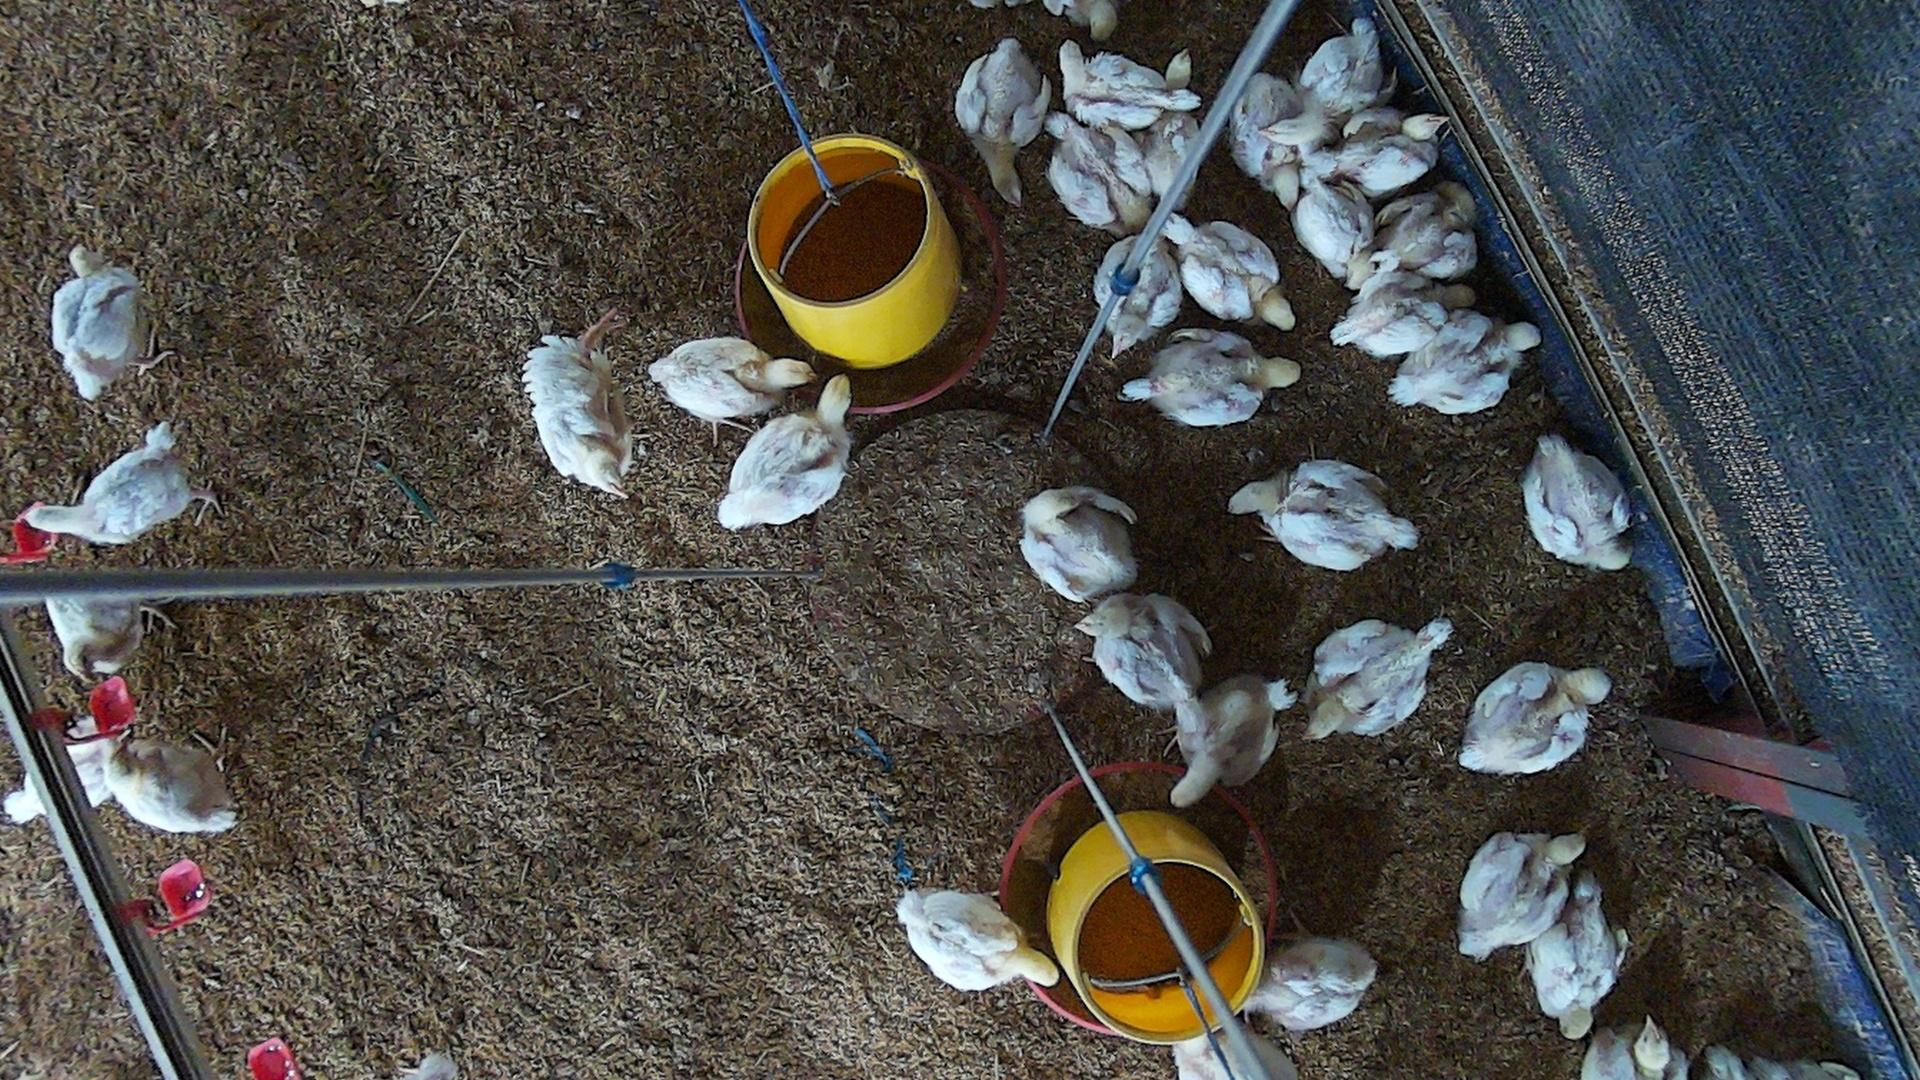ayam_broiler: (1230, 458, 1419, 568), (716, 375, 853, 526), (28, 425, 196, 542), (521, 335, 637, 493), (1120, 327, 1299, 426), (1077, 593, 1212, 725), (1259, 17, 1395, 146), (1307, 618, 1452, 738), (1456, 661, 1609, 773), (1171, 674, 1295, 806), (898, 889, 1059, 990), (1156, 211, 1295, 328), (1457, 832, 1586, 957), (955, 37, 1048, 206), (100, 728, 243, 833), (1390, 313, 1539, 413), (1526, 885, 1623, 1038), (1523, 434, 1631, 568), (53, 247, 146, 398), (647, 336, 811, 422), (1021, 488, 1138, 601), (1332, 270, 1480, 356), (1056, 40, 1197, 129), (1244, 935, 1375, 1030), (1096, 220, 1182, 364), (1046, 111, 1149, 229), (46, 599, 175, 683), (1335, 105, 1449, 200), (1371, 186, 1478, 280), (1232, 74, 1299, 210), (1291, 179, 1377, 282)
